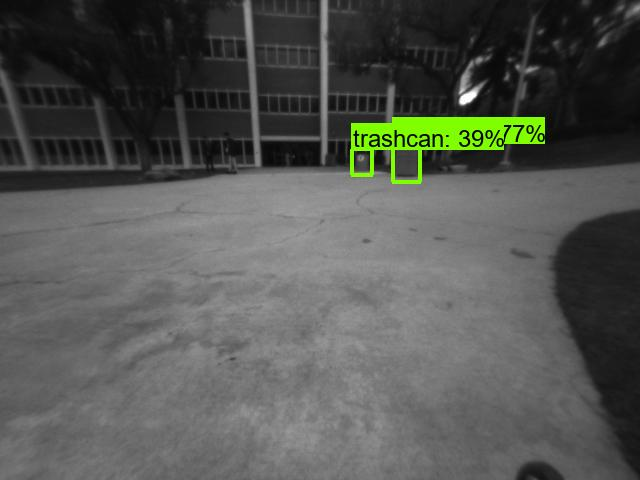trashcan: (393, 145, 417, 181), (357, 148, 372, 172)
